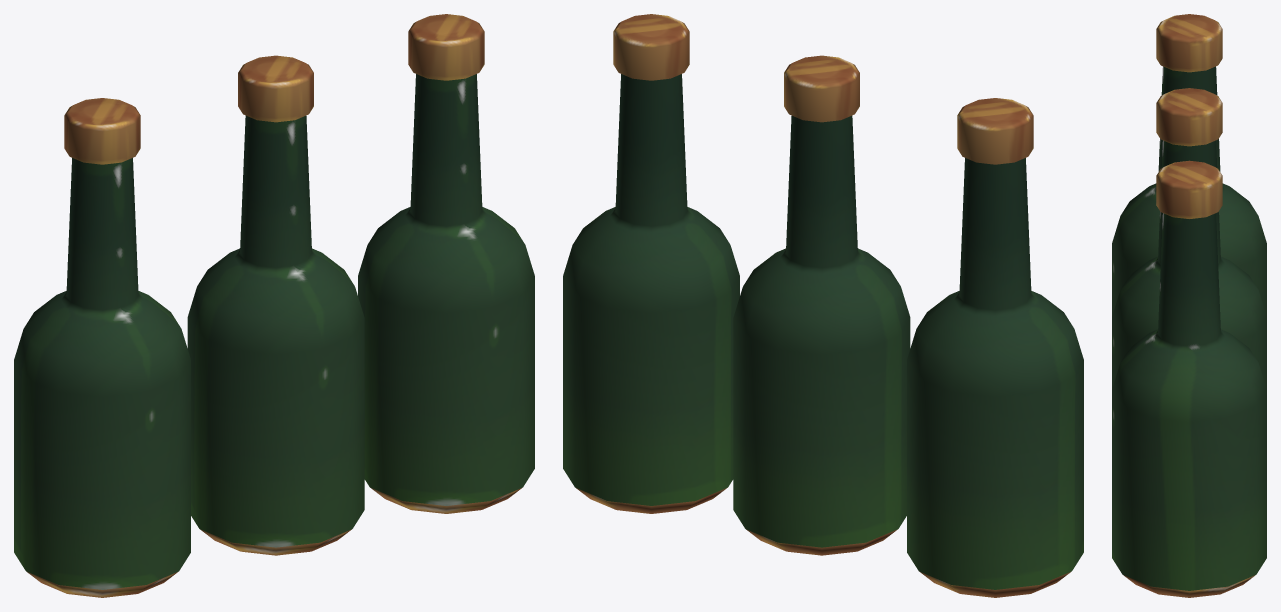
Rendered from beer.fbx.
The picture shows the model from 3 angles, left to right: view 1: azimuth 30°, elevation 25°; view 2: azimuth 150°, elevation 25°; view 3: azimuth 270°, elevation 25°; orthographic projection. The views are drawn at different scales.
Parts seen in each view (by area): view 1: beer; view 2: beer; view 3: beer.
Boxes of the visible parts, x1=… form: beer: x1=14, y1=14, x2=534, y2=597; beer: x1=563, y1=14, x2=1083, y2=597; beer: x1=1112, y1=14, x2=1266, y2=597.
Bounding box in the file's own units: 36.25 × 31.76 × 11.17.
Materials: 1 (1 with a texture image).
